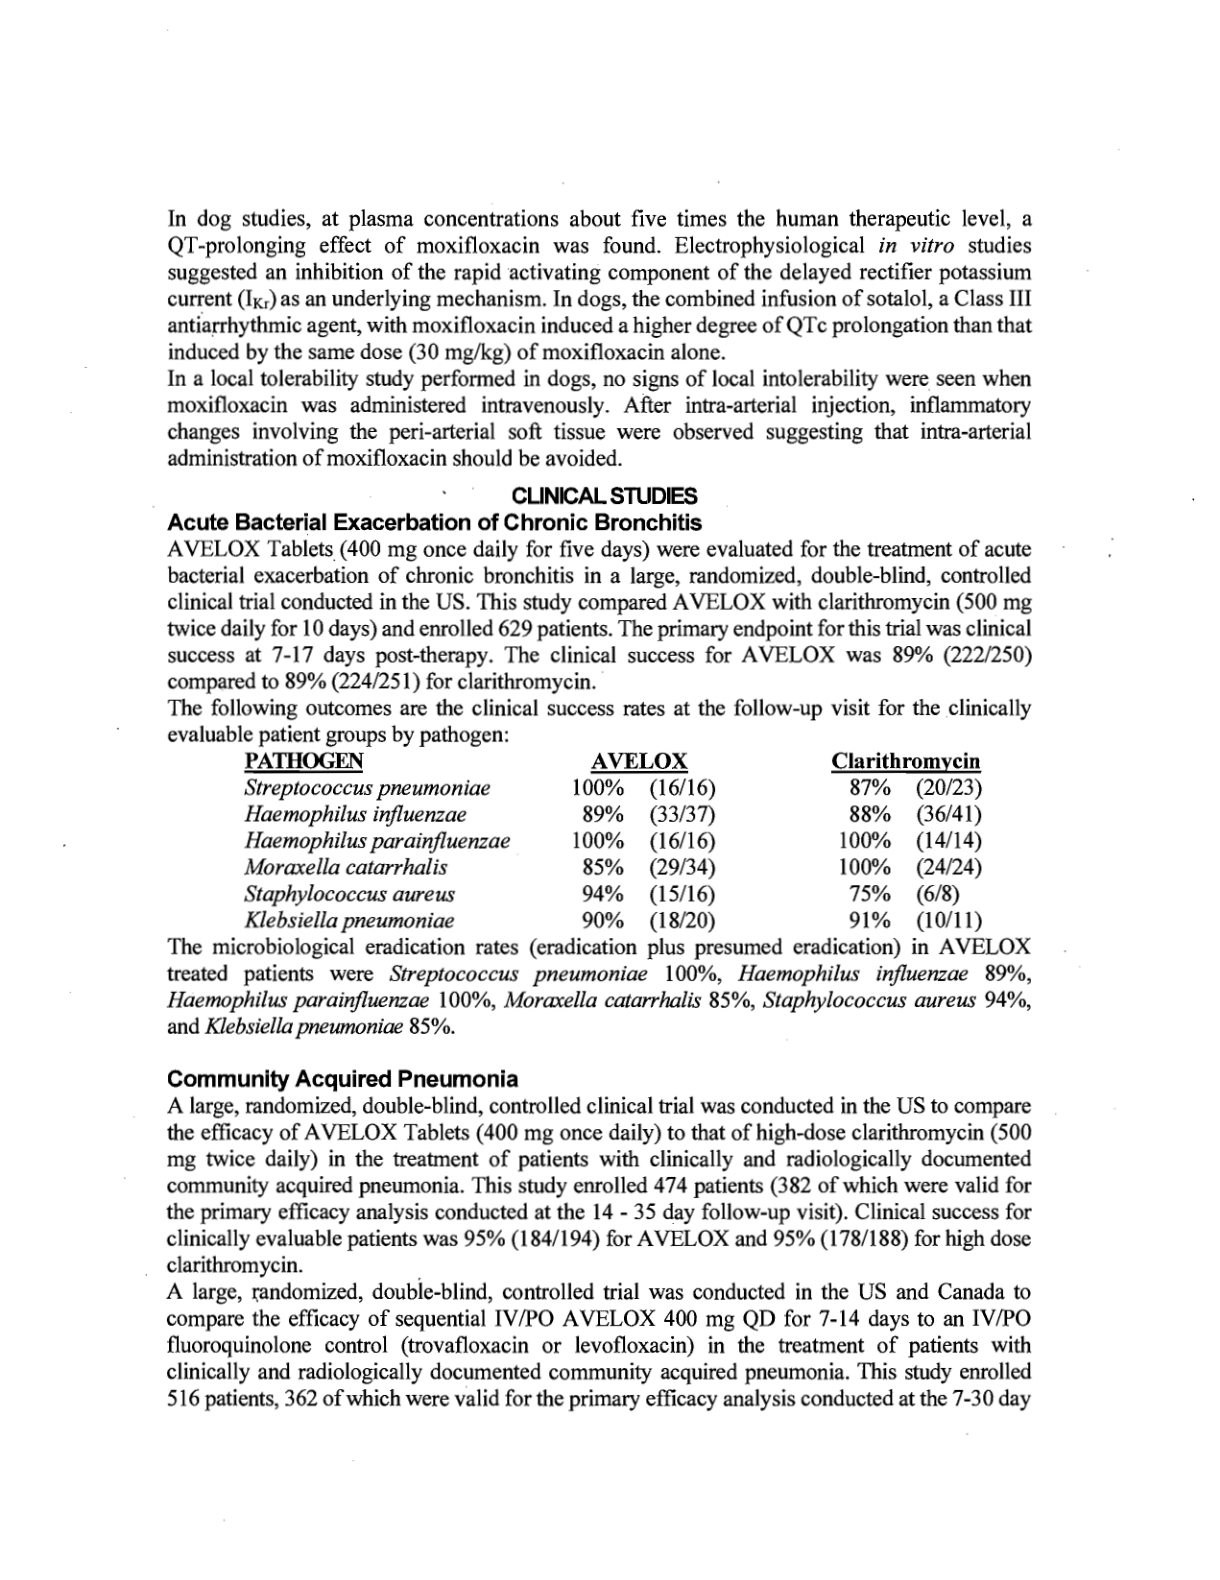nolines: (242, 750, 985, 934)
